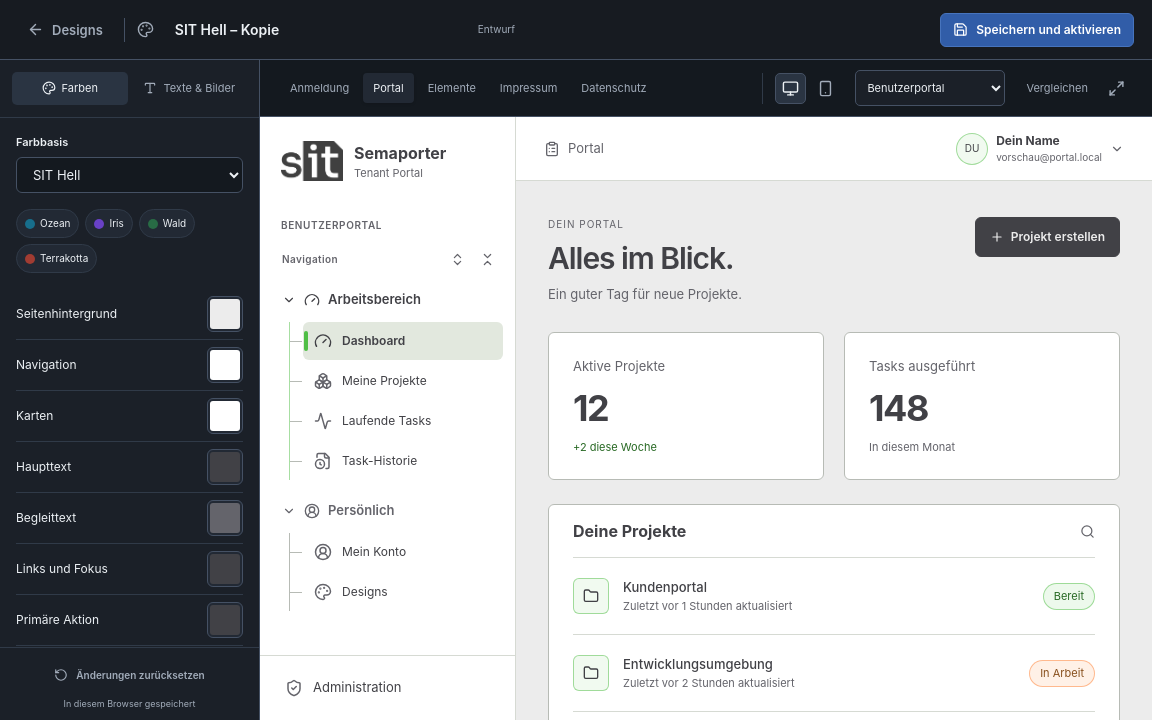
Test case: Portal-Flows › öffnet das Studio ohne Portalnavigation und verwirft Änderungen beim Zurückgehen
Expected: the dropdown labelled "Farbbasis" shows "SIT Hell", [16,157,243,193]
Step 1. Click the button "Iris" → (109, 224), box [86,209,133,238]
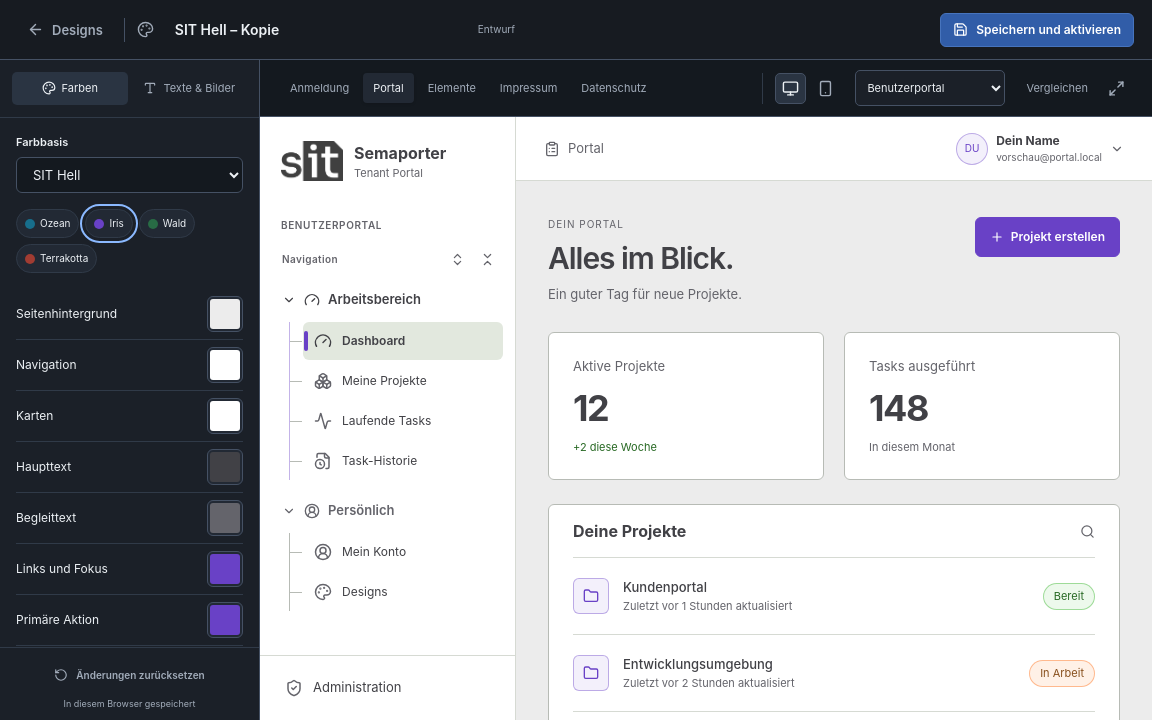
Step 2. Click the button with aria-label "Zurück zu Designs" → (65, 30), box [18,12,112,46]
(page scrolled)
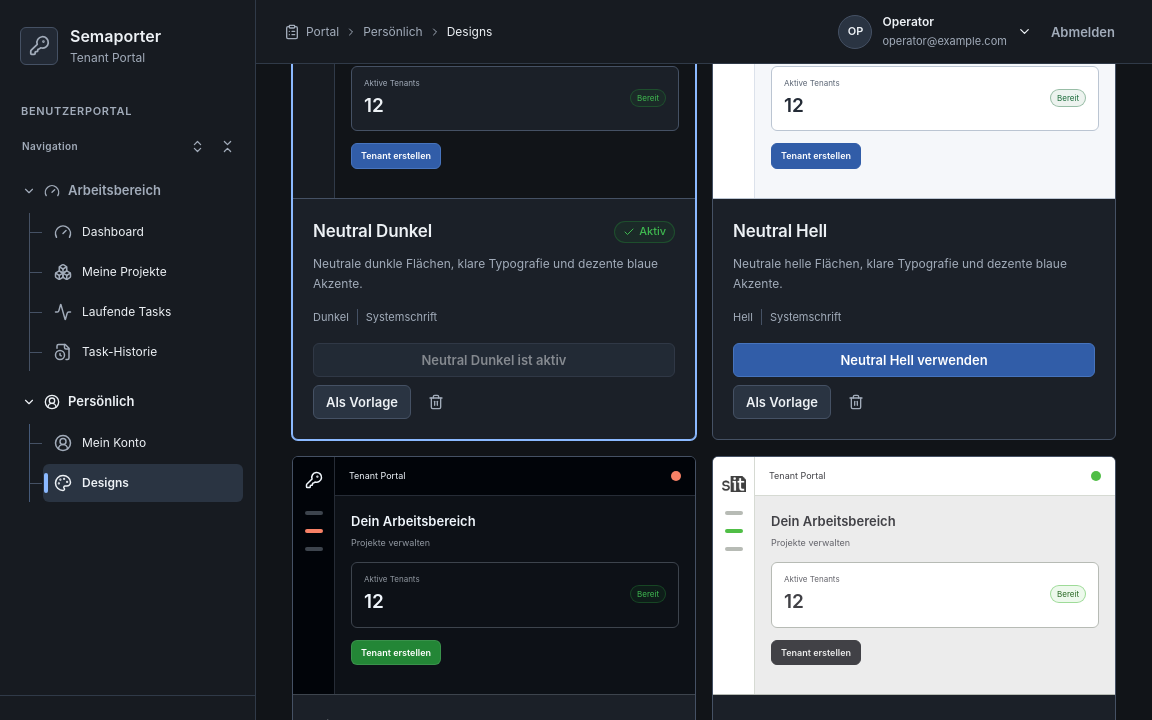
Now the button "Neutral Dunkel ist aktiv" is disabled, box [313,343,675,377]
